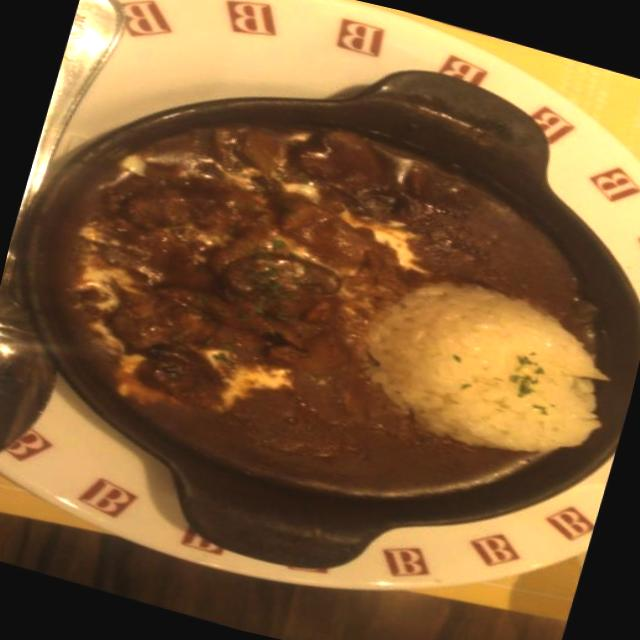Beef Curry: (51, 80, 414, 480)
